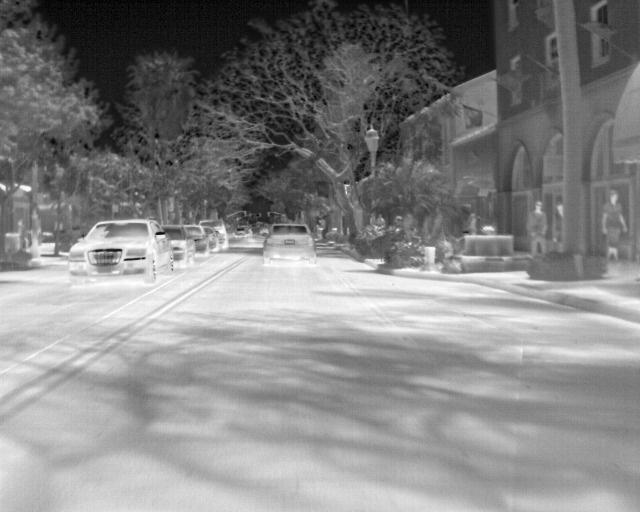bicycle: (68, 220, 169, 286), (262, 221, 314, 264), (166, 224, 196, 270), (188, 226, 211, 259), (204, 227, 222, 254)
empty: (600, 192, 631, 268), (530, 202, 550, 260), (552, 202, 567, 251)
